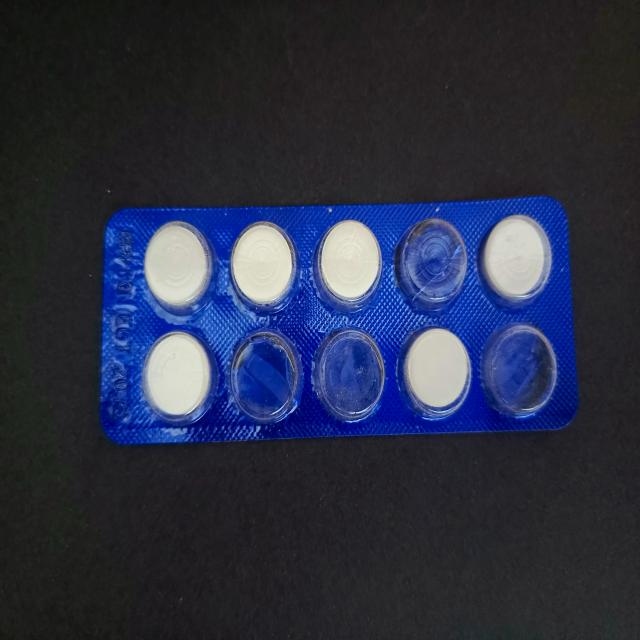defect: (479, 319, 559, 422), (311, 326, 389, 425), (394, 216, 469, 316), (227, 326, 305, 422)
